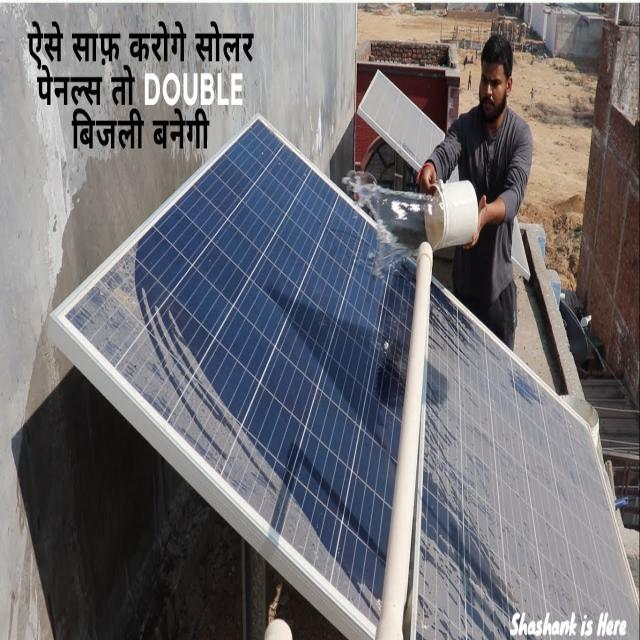dust-solar-panel: (416, 286, 640, 640)
